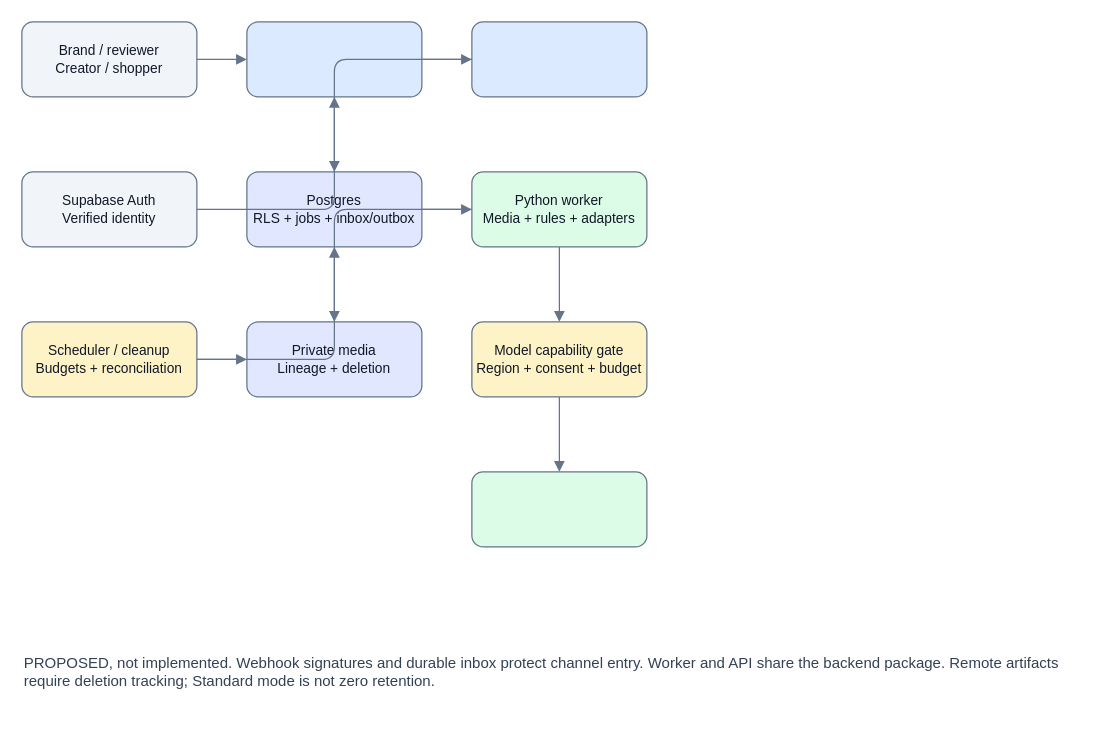
This 1119x744 diagram has some shape labels left out. Here are the shapes that lost their labels. From the top down, the centre of each, then its label:
the point at 334,59: Next.js web Scoped user surfaces
the point at 559,59: FastAPI Auth + durable commands
the point at 559,509: Meta Model API Five hosted families
